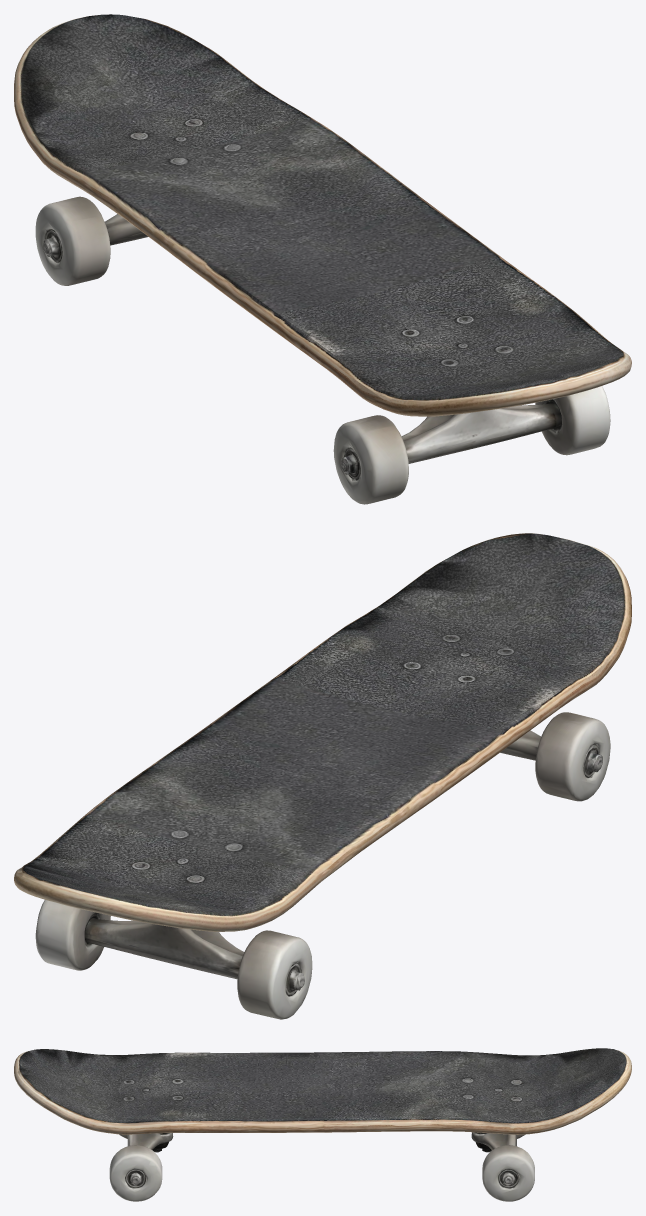
The model's file is CCG_Board_web.glb.
3 renders of one model, top to bottom at view 1: azimuth 30°, elevation 25°; view 2: azimuth 150°, elevation 25°; view 3: azimuth 270°, elevation 25°, orthographic. The views are drawn at different scales.
Visible parts, largest first — view 1: tripo_node_44905d24-5a13-4ebd-8891-6a357165fbb8; view 2: tripo_node_44905d24-5a13-4ebd-8891-6a357165fbb8; view 3: tripo_node_44905d24-5a13-4ebd-8891-6a357165fbb8.
Boxes of the visible parts, x1,y1,x2,y2 form: tripo_node_44905d24-5a13-4ebd-8891-6a357165fbb8: (14,14,631,504); tripo_node_44905d24-5a13-4ebd-8891-6a357165fbb8: (14,533,631,1019); tripo_node_44905d24-5a13-4ebd-8891-6a357165fbb8: (14,1048,631,1201).
Size of the model in its own units: 0.2906 by 0.1839 by 0.9798.
1 material, 1 textured.
